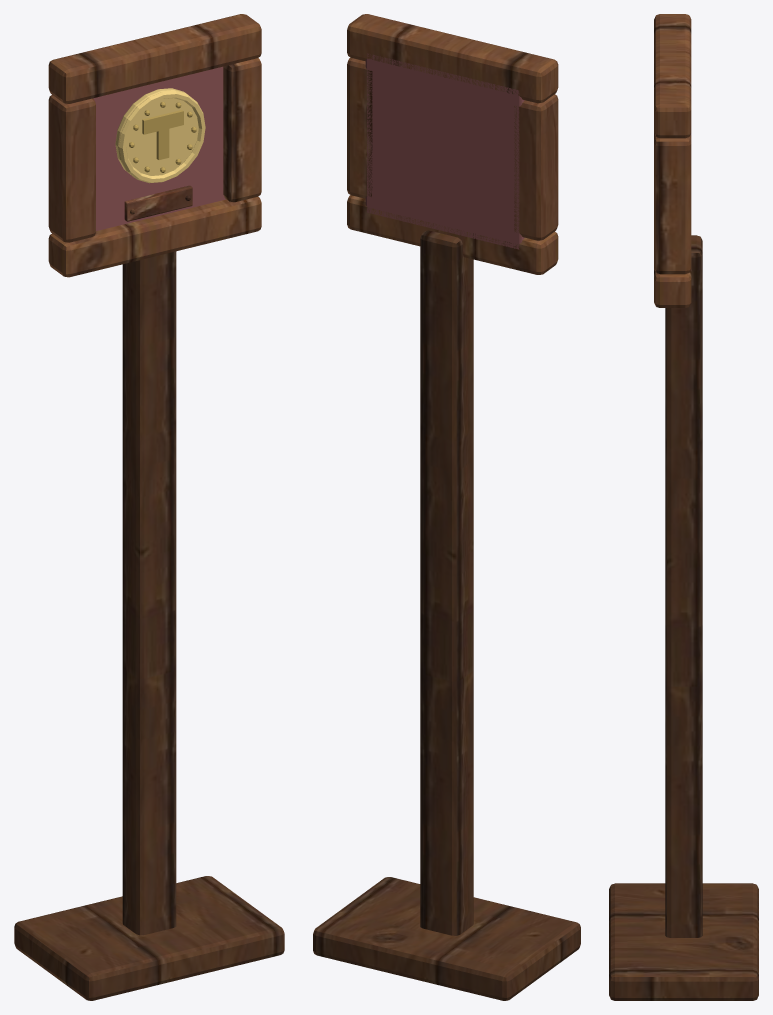
Rendered from first_coin_frame.glb.
The picture shows the model from 3 angles, left to right: view 1: azimuth 30°, elevation 25°; view 2: azimuth 150°, elevation 25°; view 3: azimuth 270°, elevation 25°; orthographic projection. The views are drawn at different scales.
Visible parts, largest first — view 1: model; view 2: model; view 3: model.
Boxes of the visible parts, bbox=[...] form: model: bbox=[14, 14, 284, 1000]; model: bbox=[313, 14, 580, 1000]; model: bbox=[609, 14, 758, 1000].
Bounding box in the file's own units: 0.3 × 1.32 × 0.2.
7 materials, 4 textured.
